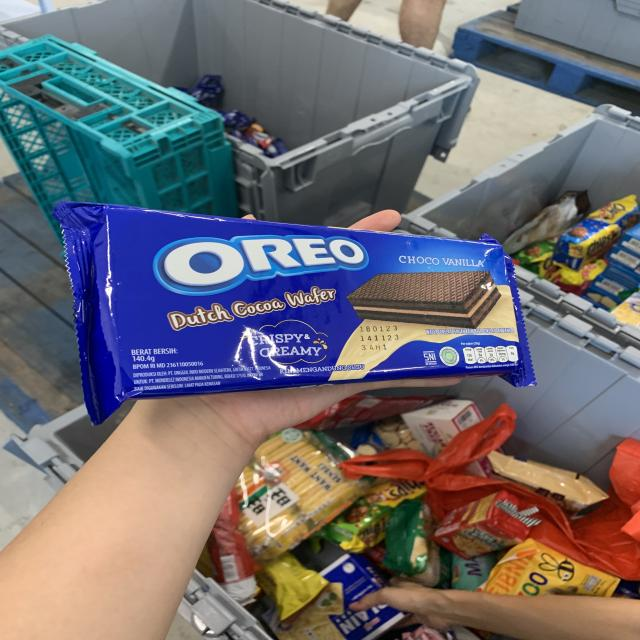object_name: (108, 219, 514, 371)
